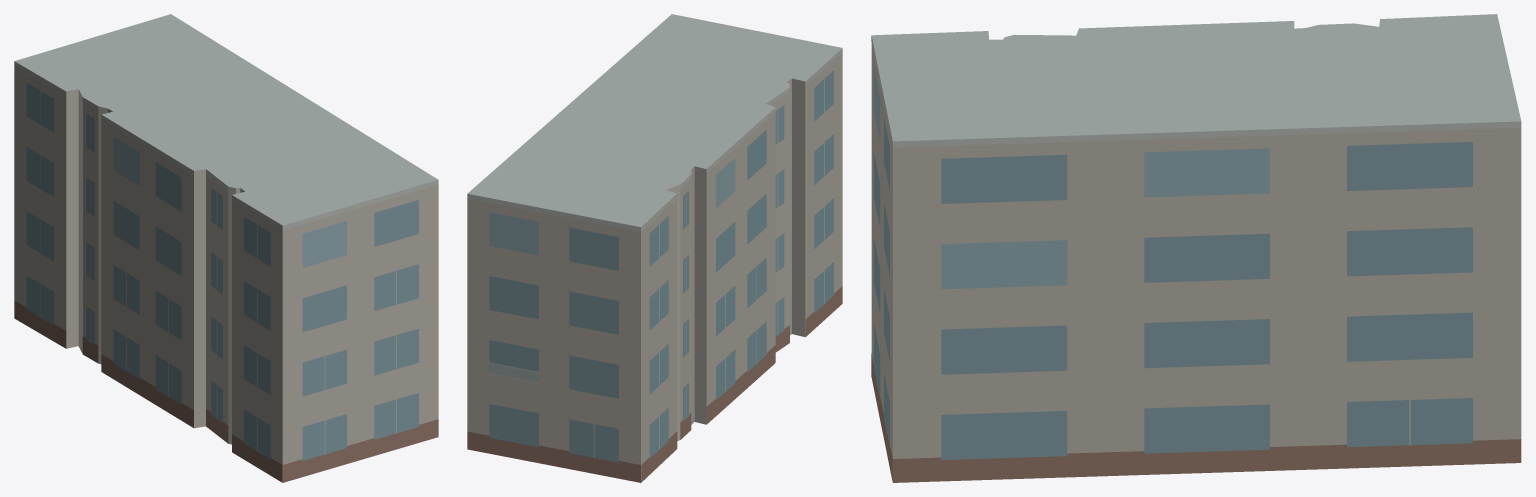
Rendered from survey-upis-32641903.glb.
3 views of the same model, side by side, from view 1: azimuth 30°, elevation 25°; view 2: azimuth 150°, elevation 25°; view 3: azimuth 270°, elevation 25° (orthographic). The views are drawn at different scales.
Parts seen in each view (by area): view 1: survey-upis-32641903.tmp; view 2: survey-upis-32641903.tmp; view 3: survey-upis-32641903.tmp.
Part boxes in pixels (x1,y1,x2,y2): survey-upis-32641903.tmp: [14, 14, 438, 482]; survey-upis-32641903.tmp: [467, 14, 842, 482]; survey-upis-32641903.tmp: [871, 14, 1521, 482].
Size of the model in its own units: 10.57 by 13.2 by 22.78.
